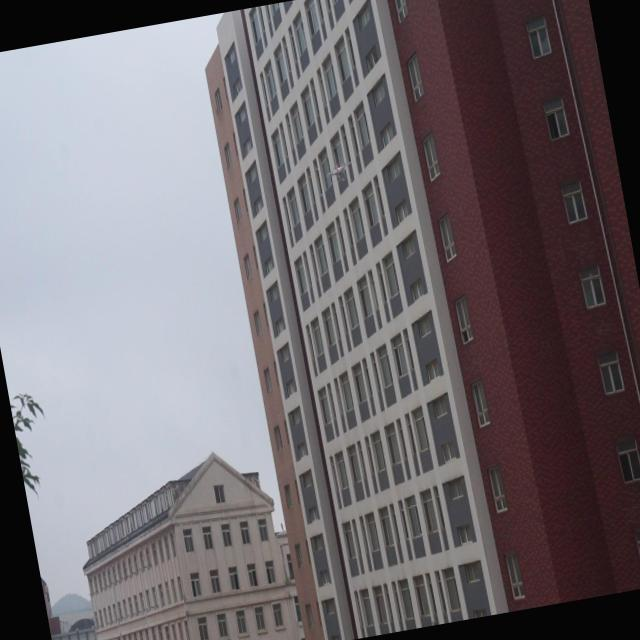drone: (324, 157, 356, 187)
